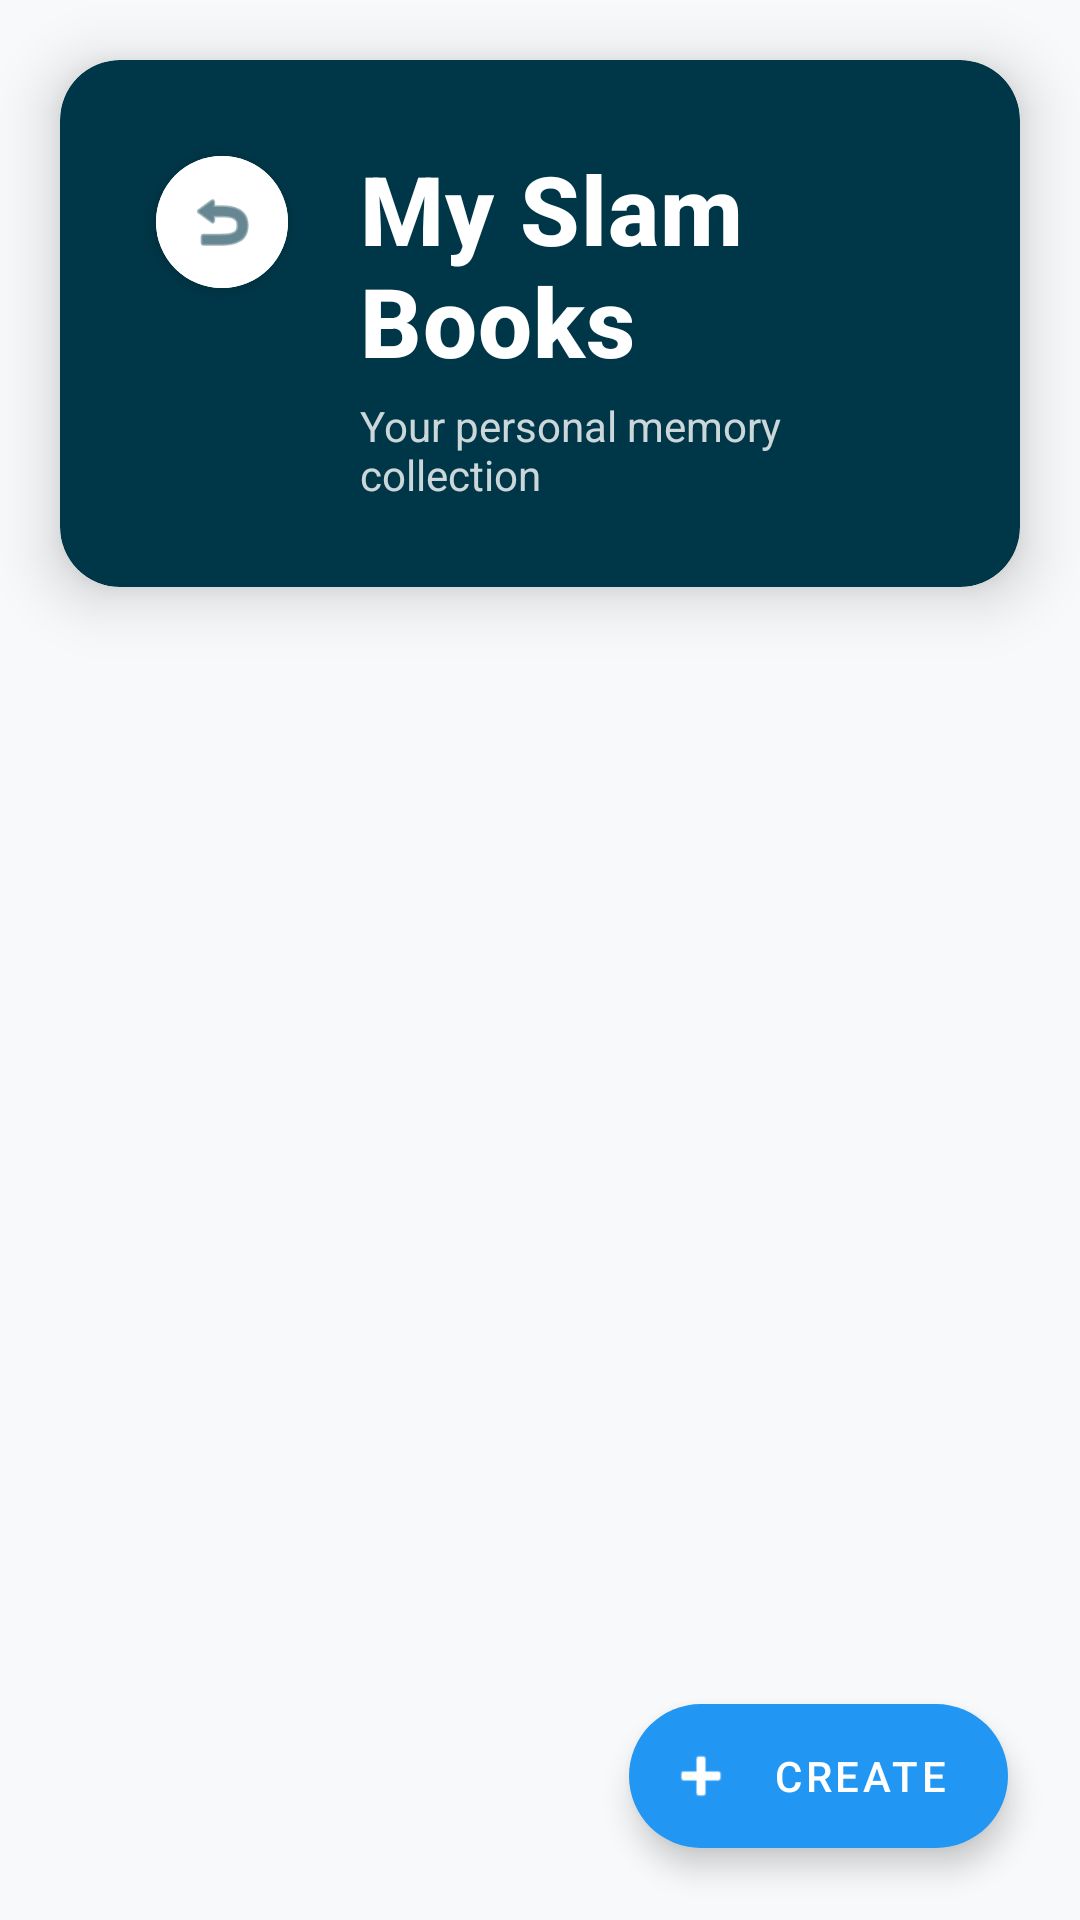

Locate icon controls on the screen. Image size 1080*1920, boxes as (left=x1, top=y1, right=x2, bottom=y2).
revert: (left=156, top=156, right=288, bottom=288)
